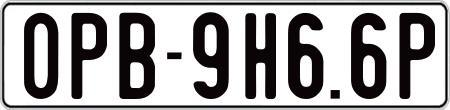0: (21, 10, 61, 101)
6: (287, 10, 324, 99), (348, 12, 385, 98)
9: (192, 12, 233, 104)
B: (118, 12, 156, 104)
H: (244, 12, 280, 98)
P: (69, 10, 106, 96), (396, 11, 430, 101)
